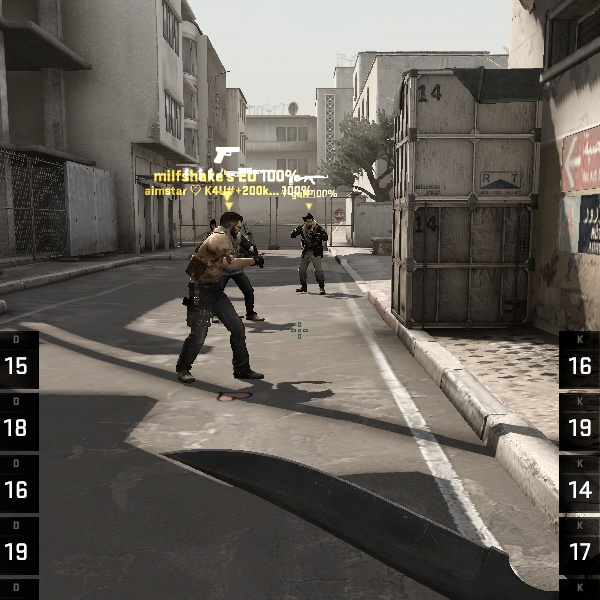t_body: (168, 205, 273, 390), (284, 209, 334, 297)
t_head: (212, 206, 250, 244)
